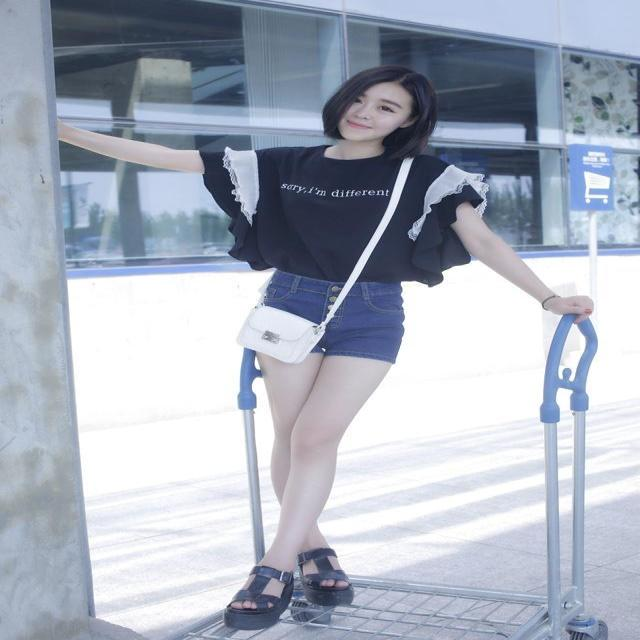short sleeve top: (200, 146, 483, 283)
shorts: (251, 271, 405, 363)
